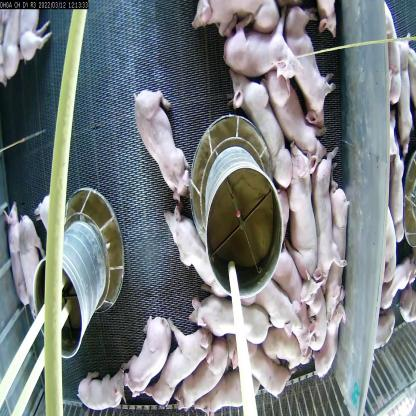Pig: (233, 59, 302, 202), (129, 76, 193, 202), (158, 198, 230, 299), (261, 52, 321, 150), (281, 136, 319, 288), (183, 284, 270, 350), (227, 13, 304, 86), (163, 327, 234, 404), (302, 138, 342, 270), (153, 321, 211, 412), (62, 346, 127, 415), (118, 313, 167, 397), (245, 269, 306, 335), (21, 211, 56, 326), (236, 332, 286, 402), (0, 201, 27, 298)
